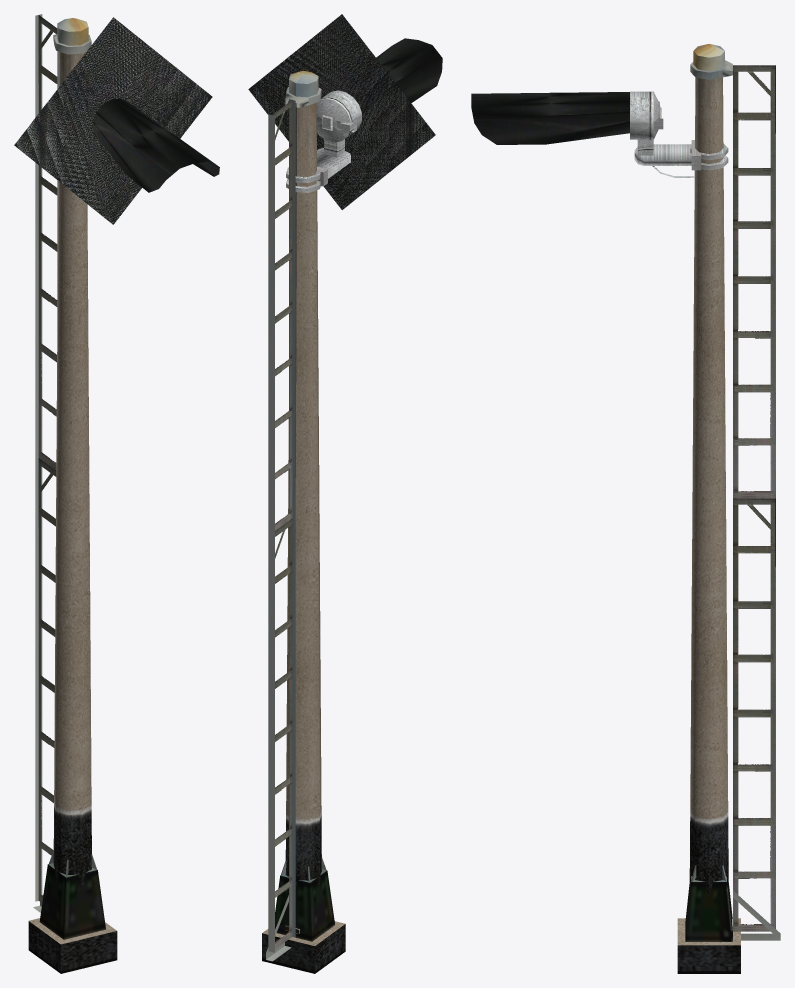
File: repeater.obj
The picture shows the model from 3 angles, left to right: view 1: azimuth 30°, elevation 25°; view 2: azimuth 150°, elevation 25°; view 3: azimuth 270°, elevation 25°; orthographic projection. The views are drawn at different scales.
Visible parts, largest first — view 1: Body_0_Footing_concrete, Body_1_Signal, Body_2_Signal, Body_5_Stairway, Body_3_Footing_metal, Body_4_Footing_metal; view 2: Body_0_Footing_concrete, Body_1_Signal, Body_5_Stairway, Body_2_Signal, Body_3_Footing_metal, Body_4_Footing_metal; view 3: Body_0_Footing_concrete, Body_5_Stairway, Body_1_Signal, Body_3_Footing_metal, Body_2_Signal, Body_4_Footing_metal.
Part boxes in pixels (x1=…): Body_0_Footing_concrete: x1=53, y1=52, x2=91, y2=890; Body_1_Signal: x1=14, y1=17, x2=219, y2=224; Body_2_Signal: x1=15, y1=18, x2=210, y2=224; Body_5_Stairway: x1=33, y1=14, x2=91, y2=912; Body_3_Footing_metal: x1=28, y1=864, x2=117, y2=973; Body_4_Footing_metal: x1=48, y1=18, x2=97, y2=877; Body_0_Footing_concrete: x1=285, y1=103, x2=321, y2=892; Body_1_Signal: x1=248, y1=14, x2=442, y2=209; Body_5_Stairway: x1=266, y1=87, x2=321, y2=961; Body_2_Signal: x1=248, y1=16, x2=435, y2=209; Body_3_Footing_metal: x1=262, y1=870, x2=345, y2=973; Body_4_Footing_metal: x1=280, y1=71, x2=326, y2=882; Body_0_Footing_concrete: x1=689, y1=77, x2=728, y2=897; Body_5_Stairway: x1=690, y1=60, x2=780, y2=940; Body_1_Signal: x1=471, y1=92, x2=629, y2=144; Body_3_Footing_metal: x1=677, y1=876, x2=740, y2=973; Body_2_Signal: x1=630, y1=91, x2=728, y2=177; Body_4_Footing_metal: x1=691, y1=44, x2=726, y2=881.
Size of the model in its own units: 1.41 by 6.58 by 1.95.
7 materials, 7 textured.
